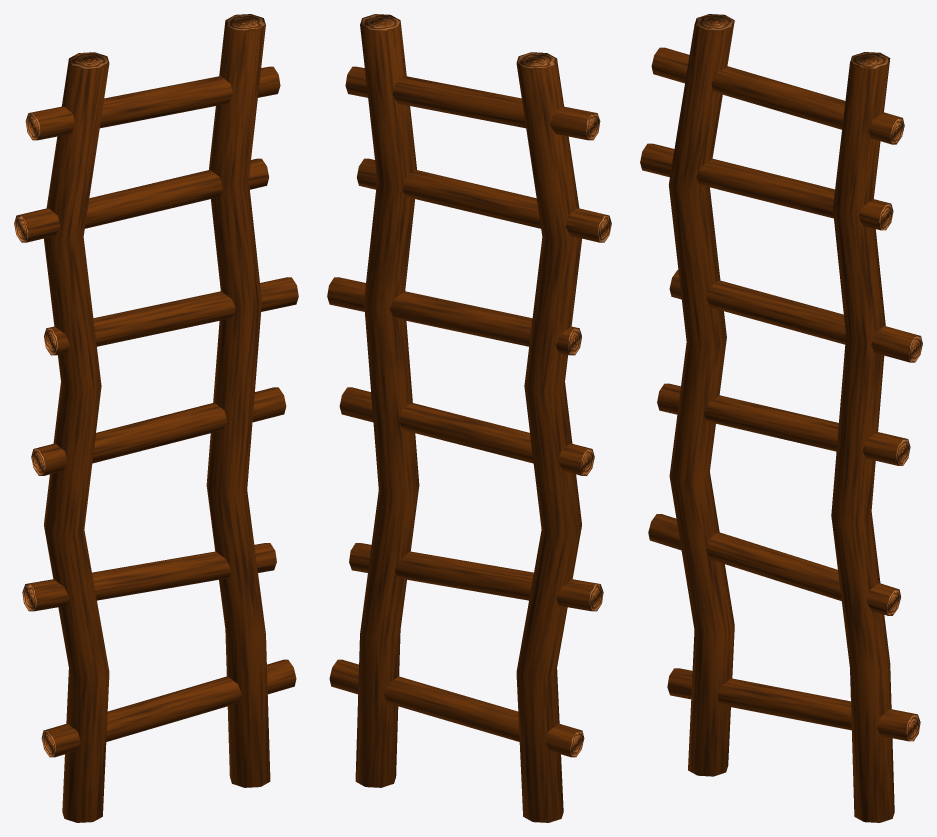
File: ladder.fbx
3 renders of one model, left to right at view 1: azimuth 30°, elevation 25°; view 2: azimuth 150°, elevation 25°; view 3: azimuth 330°, elevation 25°, orthographic.
Visible parts, largest first — view 1: Cylinder; view 2: Cylinder; view 3: Cylinder.
Part boxes in pixels (x1,y1,x2,y2): Cylinder: (14,14,298,822); Cylinder: (327,14,611,822); Cylinder: (640,14,922,822).
Bounding box in the file's own units: 74.27 × 199 × 10.
